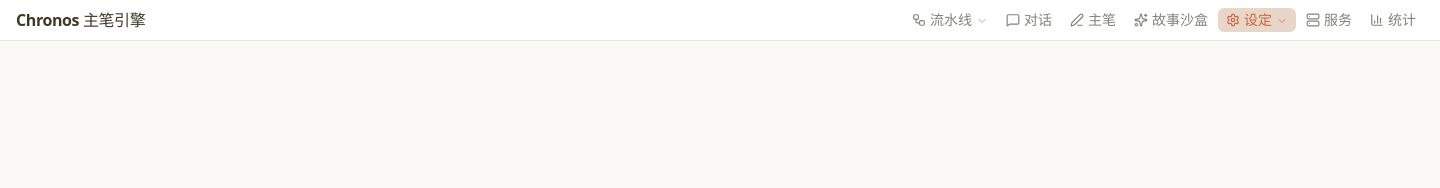
Scenario: Header navigation › 点开设定分组展示世界观/人物/故事/角色档案四项
The width and height of the screenshot is (1440, 188).
Click the button "设定" at (1257, 20), box [1218,8,1296,32]
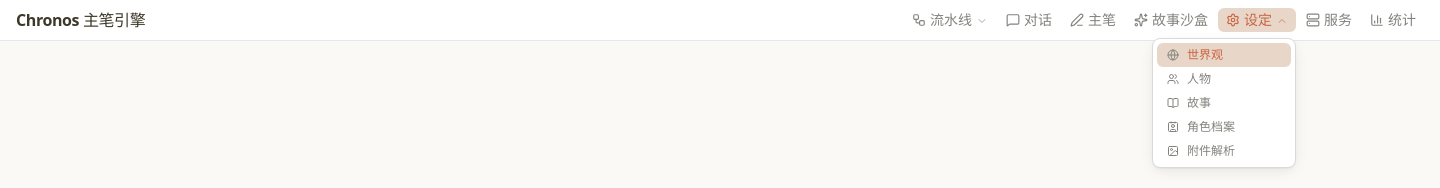
Now the menu item "世界观" is shown, box [1157,43,1291,67]
Now the menu item "人物" is shown, box [1167,70,1211,87]
Now the menu item "故事" is shown, box [1167,94,1211,111]
